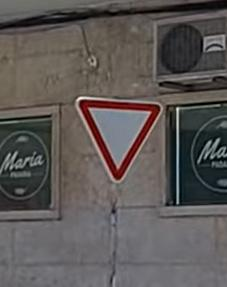cedencia de passagem: (73, 89, 161, 181)
